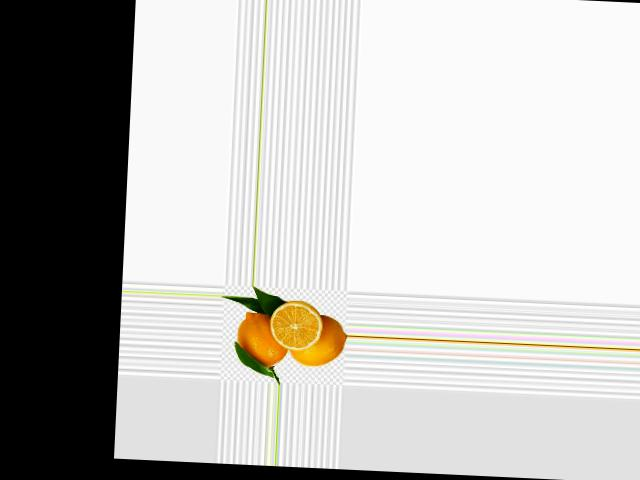lemon: (291, 309, 348, 366)
